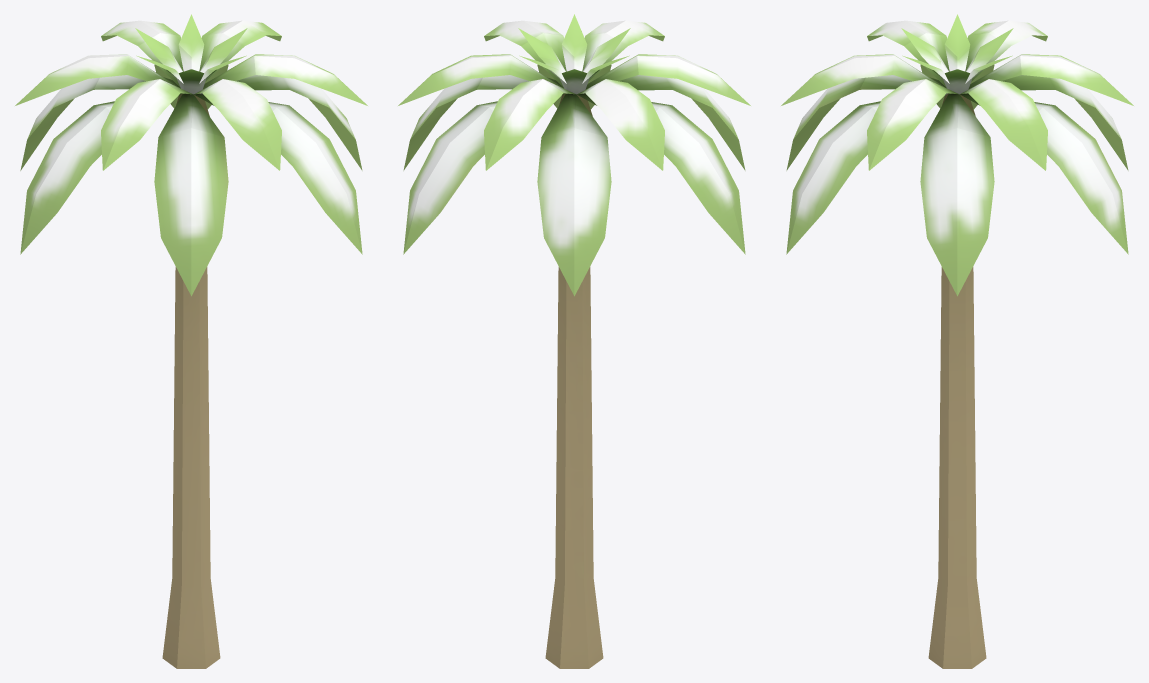
The picture shows the model from 3 angles, left to right: view 1: azimuth 30°, elevation 25°; view 2: azimuth 150°, elevation 25°; view 3: azimuth 270°, elevation 25°; orthographic projection.
Visible parts, largest first — view 1: WPalmold; view 2: WPalmold; view 3: WPalmold.
Boxes of the visible parts, box(x1,y1,x2,y2) form: WPalmold: box(15, 14, 367, 668); WPalmold: box(398, 14, 750, 668); WPalmold: box(781, 14, 1133, 668).
Size of the model in its own units: 11.62 by 20.01 by 10.42.
Materials: 1 (1 with a texture image).
